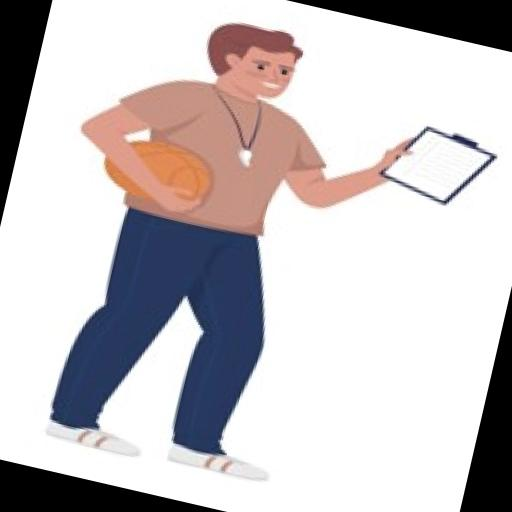human: (11, 0, 446, 507)
